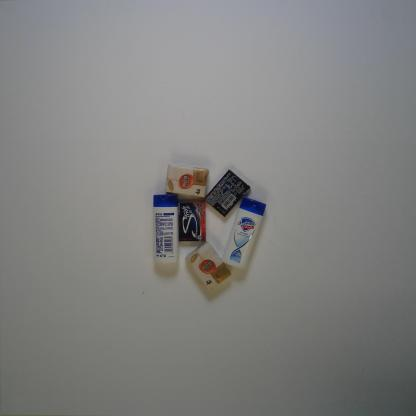Gum: (204, 168, 252, 218), (176, 201, 207, 243)
Personal Hygiene: (220, 196, 268, 270), (152, 193, 180, 264)
Tissue: (185, 240, 232, 290), (164, 163, 209, 199)
